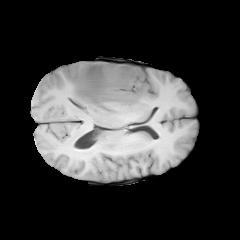glioma: (72, 63, 147, 115)
